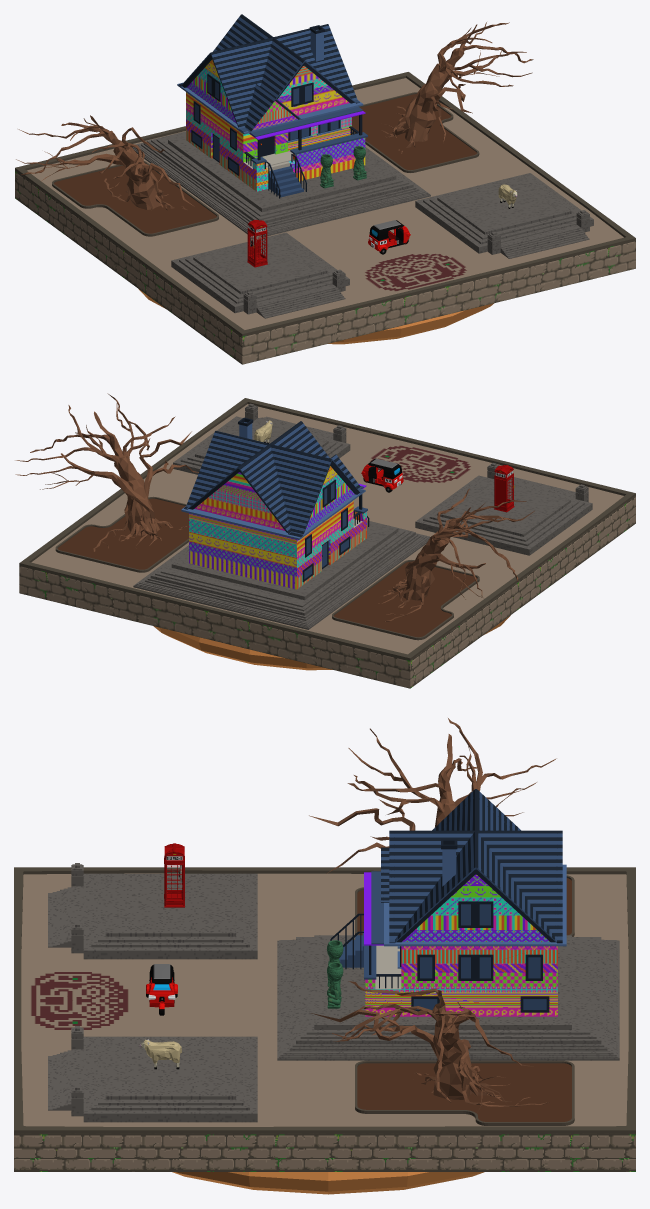
The picture shows the model from 3 angles, top to bottom: view 1: azimuth 30°, elevation 25°; view 2: azimuth 150°, elevation 25°; view 3: azimuth 270°, elevation 25°; orthographic projection. The views are drawn at different scales.
Visible parts, largest first — view 1: Cube.011, Cube.676, UNDERGROUND_PIZZA, VEHICLES_TUC_TUC, OBJRANDOM_PHONEBOOTH; view 2: Cube.011, Cube.676, UNDERGROUND_PIZZA, VEHICLES_TUC_TUC, OBJRANDOM_PHONEBOOTH; view 3: Cube.011, Cube.676, UNDERGROUND_PIZZA, VEHICLES_TUC_TUC, OBJRANDOM_PHONEBOOTH, ANIMAL_OVEJA.
Part boxes in pixels (left/top/right/bottom): Cube.011: left=15, top=22, right=635, bottom=364; Cube.676: left=177, top=14, right=367, bottom=198; UNDERGROUND_PIZZA: left=138, top=289, right=493, bottom=344; VEHICLES_TUC_TUC: left=368, top=220, right=410, bottom=254; OBJRANDOM_PHONEBOOTH: left=247, top=219, right=267, bottom=267; Cube.011: left=15, top=393, right=635, bottom=688; Cube.676: left=181, top=417, right=369, bottom=589; UNDERGROUND_PIZZA: left=153, top=615, right=510, bottom=670; VEHICLES_TUC_TUC: left=361, top=458, right=403, bottom=492; OBJRANDOM_PHONEBOOTH: left=494, top=465, right=514, bottom=512; Cube.011: left=14, top=718, right=635, bottom=1171; Cube.676: left=330, top=789, right=566, bottom=1016; UNDERGROUND_PIZZA: left=172, top=1172, right=484, bottom=1194; VEHICLES_TUC_TUC: left=146, top=964, right=177, bottom=1015; OBJRANDOM_PHONEBOOTH: left=164, top=843, right=184, bottom=907; ANIMAL_OVEJA: left=139, top=1039, right=181, bottom=1069.
Bounding box in the file's own units: 5099 × 1872 × 4000.
49 materials, 9 textured.
